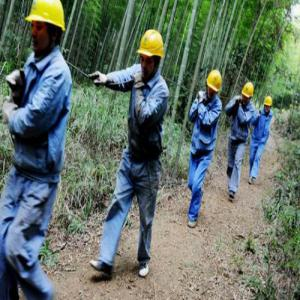yellow: (29, 2, 64, 53), (141, 28, 164, 78), (207, 70, 222, 100), (242, 82, 255, 106), (265, 96, 274, 114)
